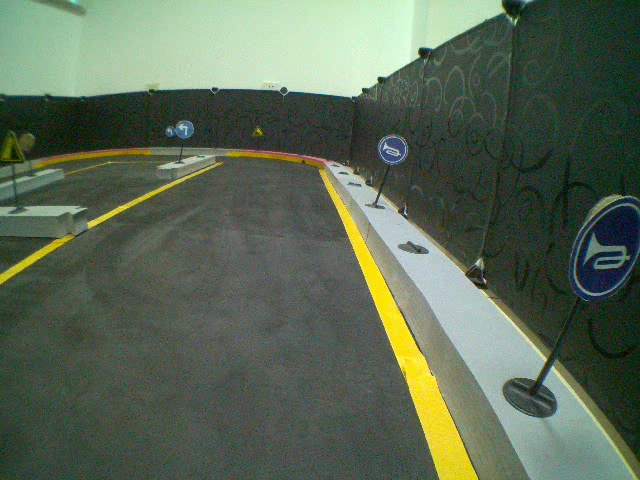fast: (1, 130, 23, 165), (252, 124, 265, 137)
horn: (566, 195, 640, 297), (377, 134, 409, 165)
turn: (177, 119, 195, 140), (163, 125, 174, 138)
